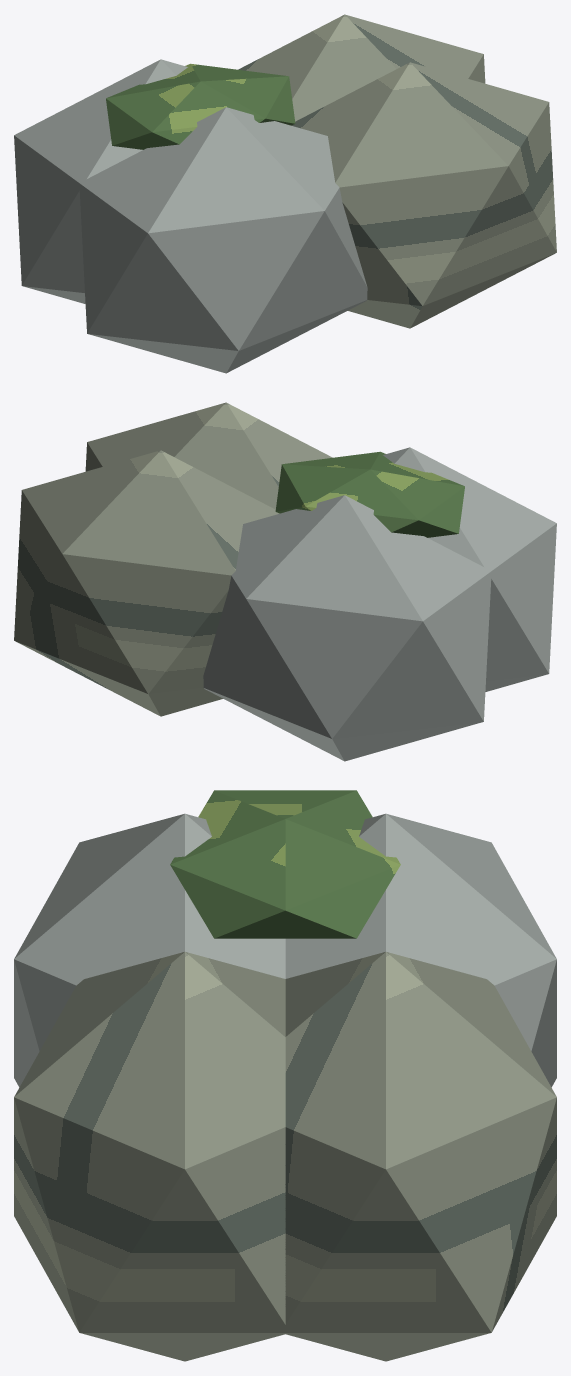
The model's file is moss_rock.glb.
3 renders of one model, top to bottom at view 1: azimuth 30°, elevation 25°; view 2: azimuth 150°, elevation 25°; view 3: azimuth 270°, elevation 25°, orthographic. The views are drawn at different scales.
Parts seen in each view (by area): view 1: Rock, Rock.001, Rock.002, Rock.003, Moss.004; view 2: Rock.002, Rock.003, Rock, Rock.001, Moss.004; view 3: Rock.001, Rock.003, Rock, Rock.002, Moss.004.
Part boxes in pixels (bbox=[...]): Rock: bbox=[79, 107, 367, 373]; Rock.001: bbox=[291, 62, 556, 328]; Rock.002: bbox=[14, 59, 187, 303]; Rock.003: bbox=[238, 14, 485, 121]; Moss.004: bbox=[106, 63, 295, 149]; Rock.002: bbox=[203, 495, 491, 761]; Rock.003: bbox=[14, 450, 279, 716]; Rock: bbox=[383, 447, 556, 691]; Rock.001: bbox=[85, 402, 332, 509]; Moss.004: bbox=[275, 451, 464, 537]; Rock.001: bbox=[14, 952, 290, 1361]; Rock.003: bbox=[281, 952, 556, 1361]; Rock: bbox=[14, 813, 285, 1087]; Rock.002: bbox=[285, 813, 556, 1087]; Moss.004: bbox=[170, 790, 400, 938].
Bounding box in the file's own units: 1.63 × 0.9 × 1.08.
3 materials, 2 textured.
